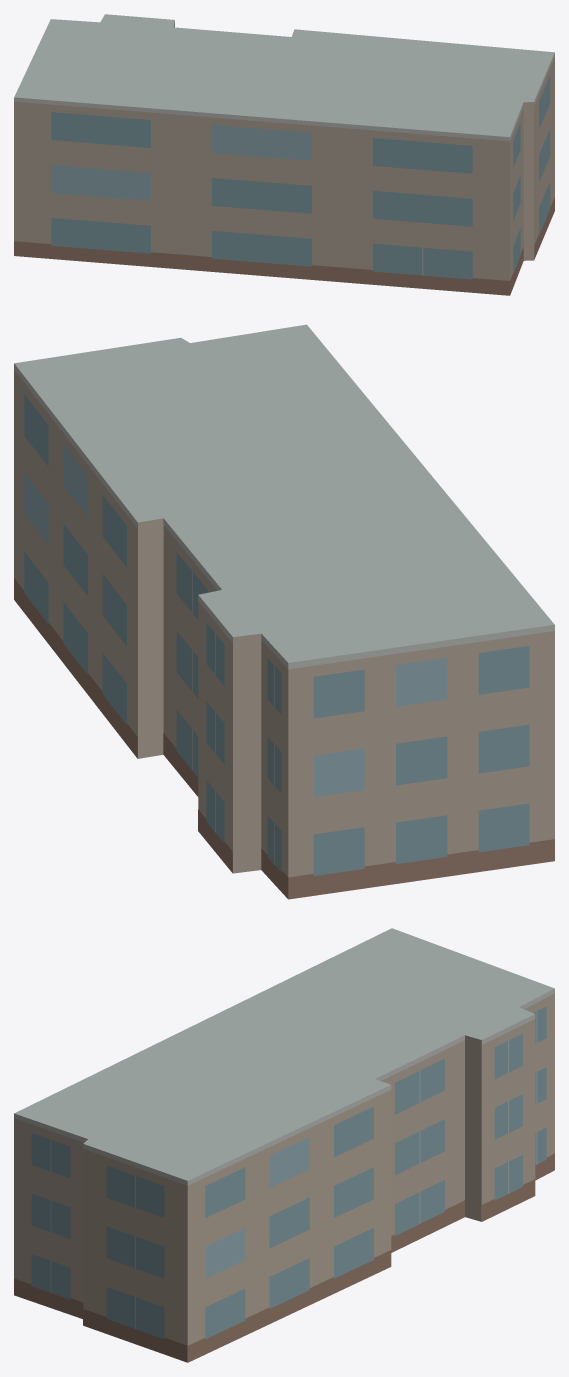
Rendered from survey-upis-32678596.glb.
The picture shows the model from 3 angles, top to bottom: view 1: azimuth 30°, elevation 25°; view 2: azimuth 150°, elevation 25°; view 3: azimuth 270°, elevation 25°; orthographic projection. The views are drawn at different scales.
Visible parts, largest first — view 1: survey-upis-32678596.tmp; view 2: survey-upis-32678596.tmp; view 3: survey-upis-32678596.tmp.
Boxes of the visible parts, <box> form: survey-upis-32678596.tmp: <box>14,14,554,295</box>; survey-upis-32678596.tmp: <box>14,324,554,899</box>; survey-upis-32678596.tmp: <box>14,928,554,1362</box>.
Bounding box in the file's own units: 27.28 × 9.15 × 24.67.
